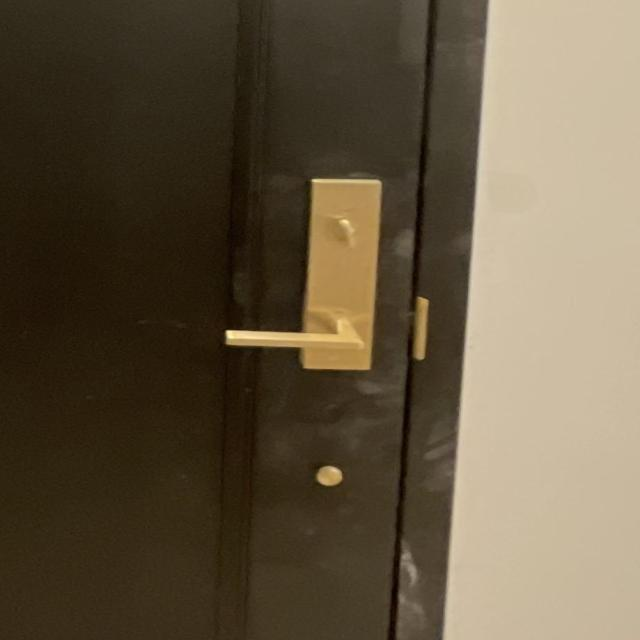door_handle: (203, 300, 383, 363)
